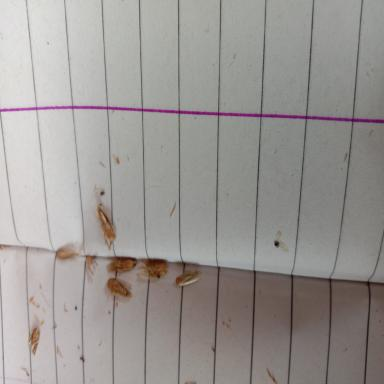pbw: (98, 205, 116, 236), (108, 255, 138, 273), (176, 270, 202, 287), (28, 325, 41, 355), (55, 246, 76, 258)
